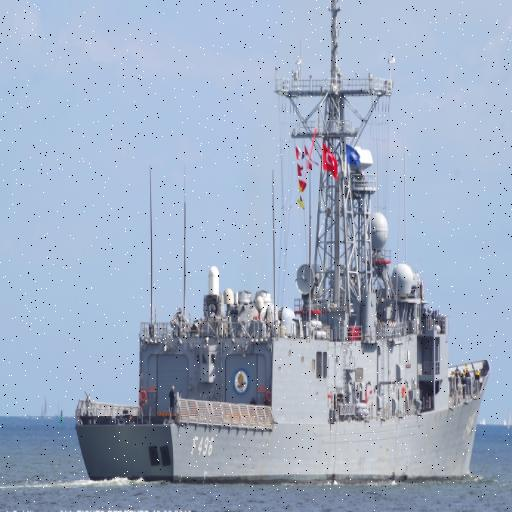Fragata: (72, 1, 494, 489)
